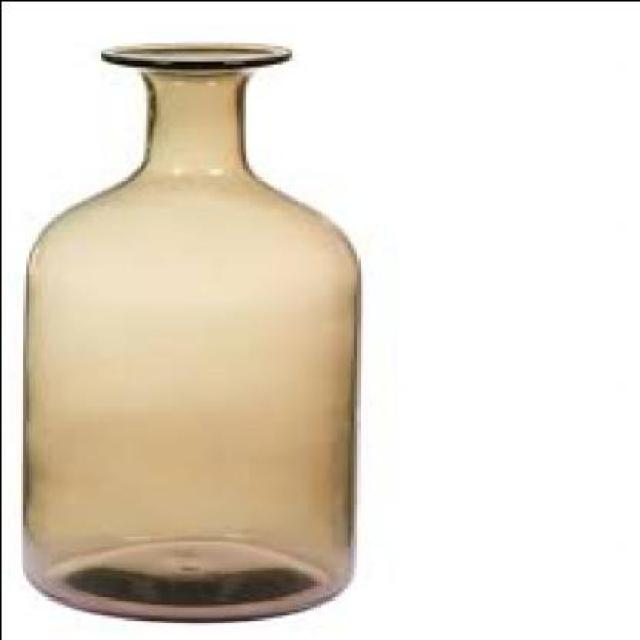glass: (18, 40, 356, 620)
